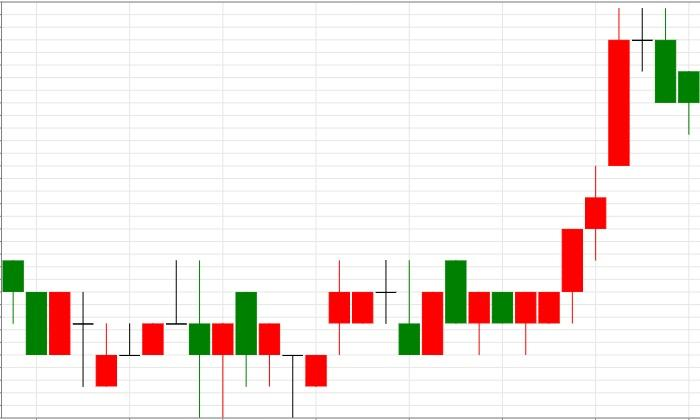evening_star_fall: (515, 7, 677, 354)
